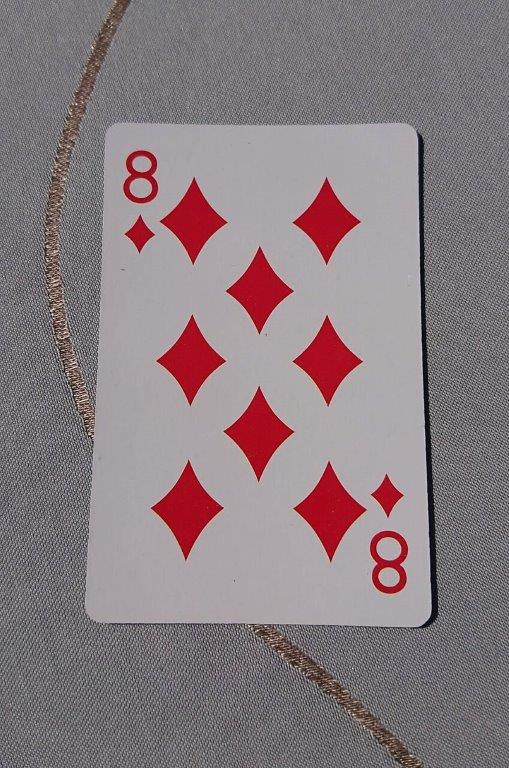8D: (82, 120, 439, 630)
